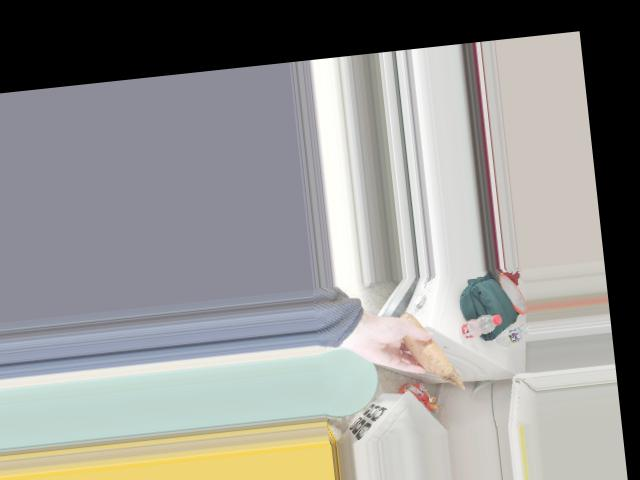sweet_potato: (391, 312, 441, 368)
